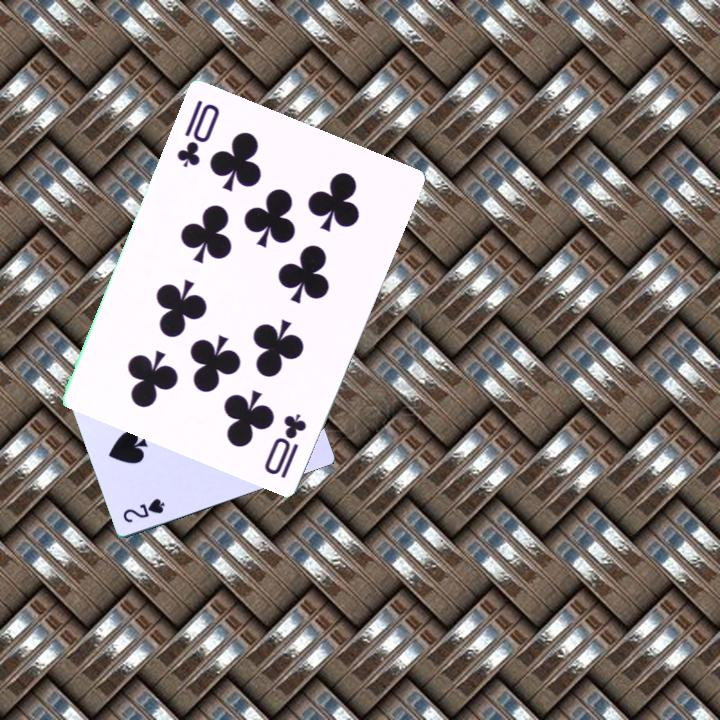10c: (173, 95, 223, 170), (260, 409, 310, 481)
2s: (120, 494, 168, 525)
